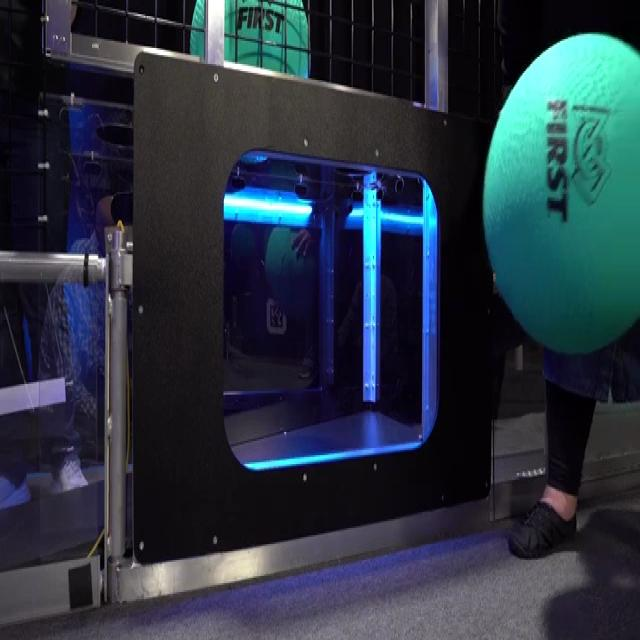Algae: (481, 30, 638, 356), (189, 0, 311, 80)
